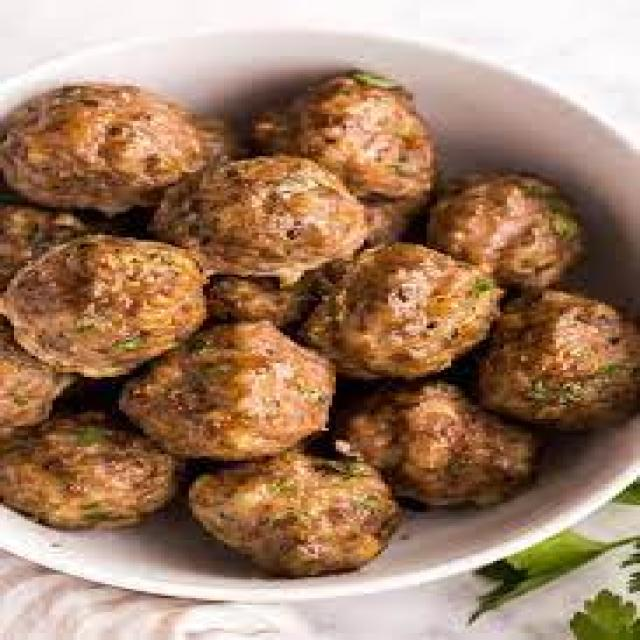Meatball: (110, 321, 346, 467), (288, 238, 524, 379), (0, 234, 227, 379), (0, 73, 214, 220), (185, 447, 406, 585), (256, 62, 446, 211), (457, 288, 640, 432), (160, 160, 366, 286), (395, 170, 590, 287), (0, 406, 175, 532)
